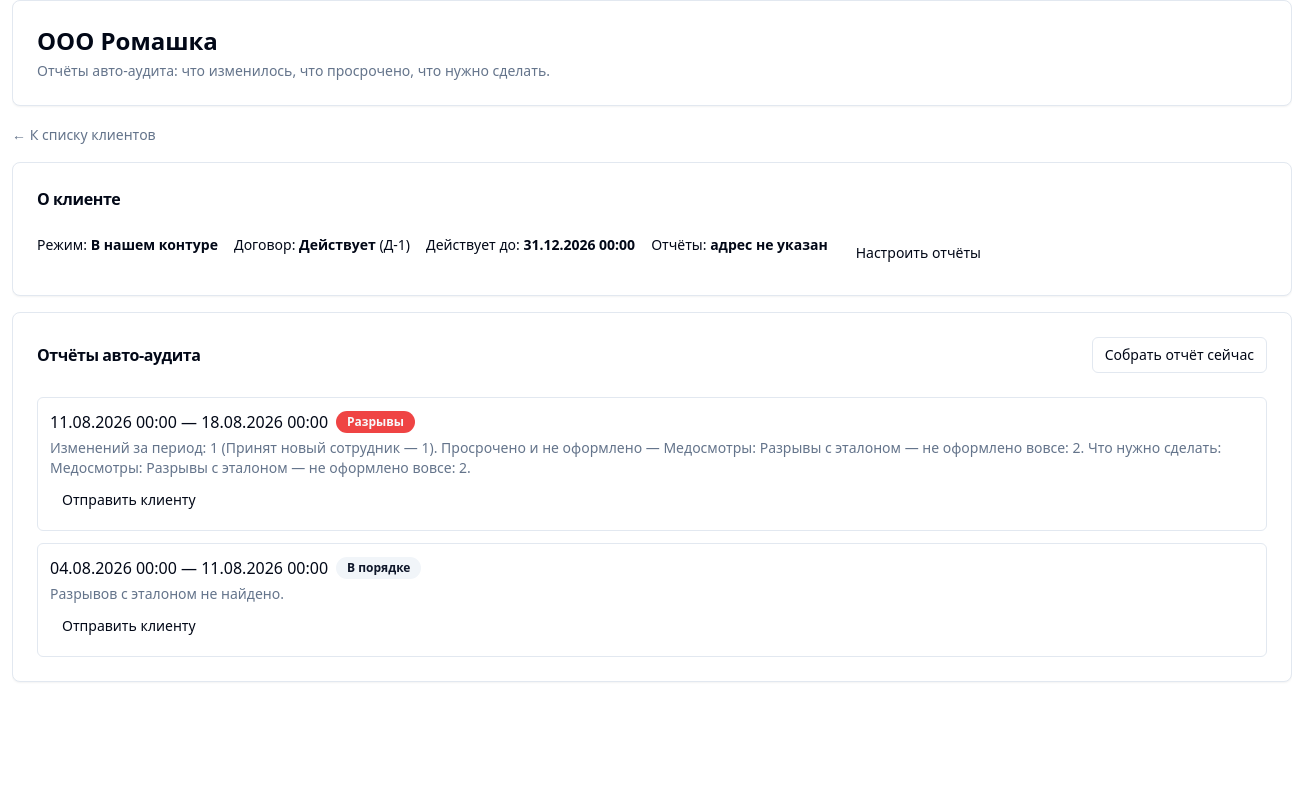
ClientCardPage (BIZ-51 срез-10) › кнопка «Собрать отчёт сейчас» зовёт сервер, итог остаётся на экране
expect the number of list items with test id "audit-report-row" is 2: met, box [37,397,1267,531]; [37,543,1267,657]
Click the button with test id "run-audit-button". click: click(1179, 355)
box: [1092,337,1267,373]
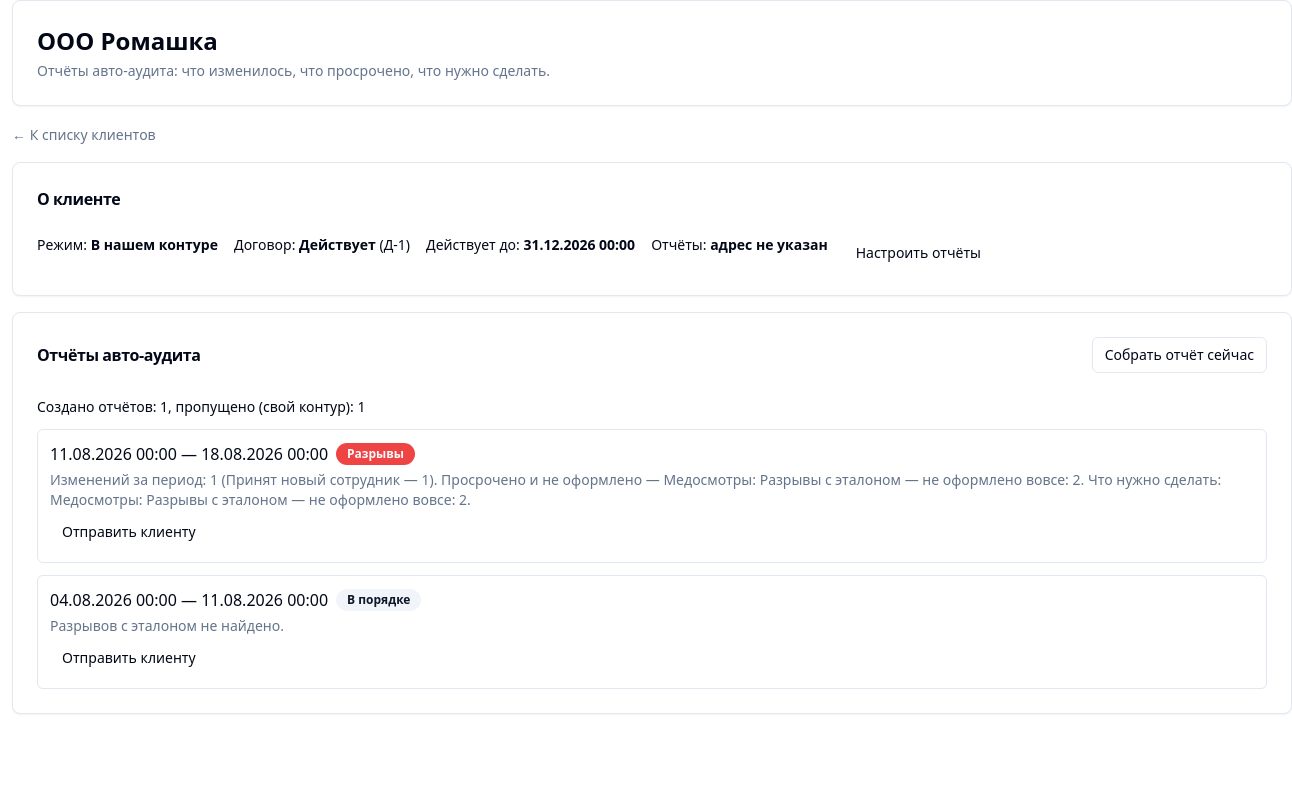
expect the text with test id "run-audit-result" shows "пропущено (свой контур): 1": met, box [37,397,366,416]
